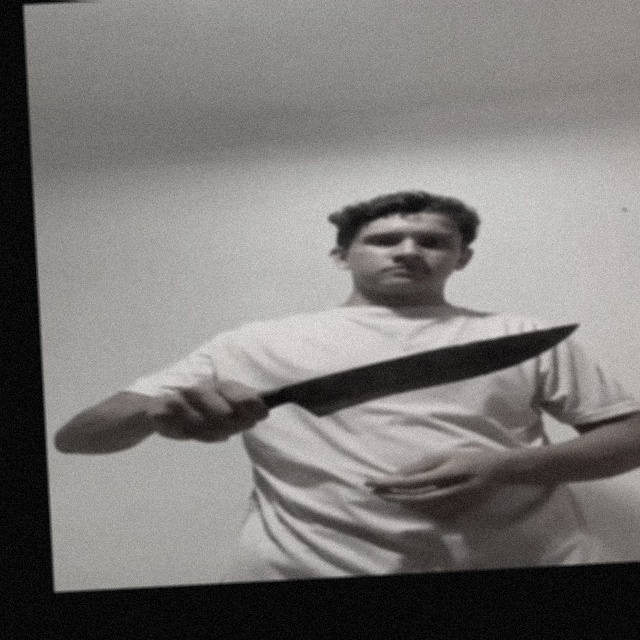Sharp-Object: (280, 323, 585, 420)
